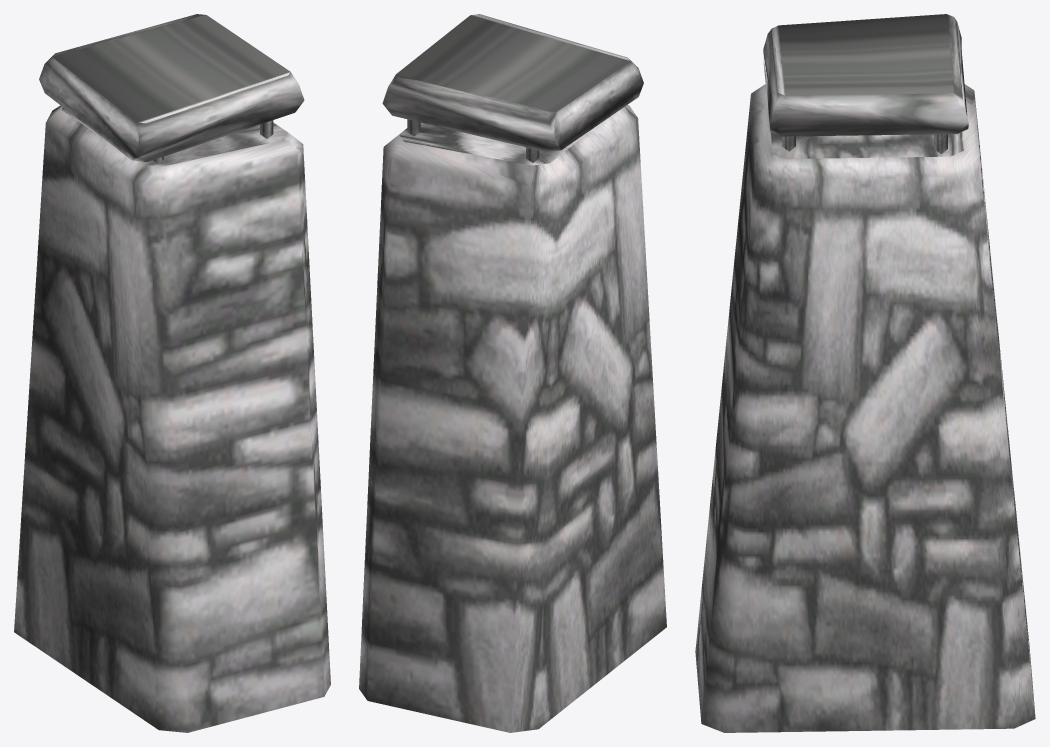
The model's file is HTOWN01_GREENDRAGCHIM2.fbx.
The picture shows the model from 3 angles, left to right: view 1: azimuth 30°, elevation 25°; view 2: azimuth 150°, elevation 25°; view 3: azimuth 270°, elevation 25°; orthographic projection. The views are drawn at different scales.
Visible parts, largest first — view 1: HTOWN01_GREENDRAGCHIM2; view 2: HTOWN01_GREENDRAGCHIM2; view 3: HTOWN01_GREENDRAGCHIM2.
Boxes of the visible parts, x1,y1,x2,y2 form: HTOWN01_GREENDRAGCHIM2: (14,14,330,732); HTOWN01_GREENDRAGCHIM2: (359,14,666,732); HTOWN01_GREENDRAGCHIM2: (695,14,1035,732).
Bounding box in the file's own units: 8543 × 26383 × 12888.
Materials: 1 (1 with a texture image).
